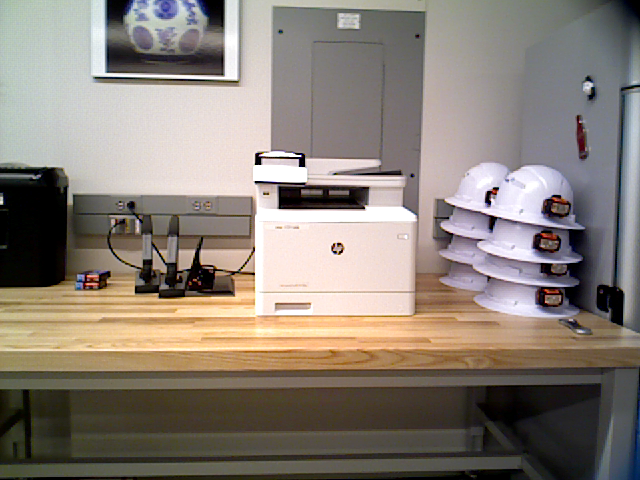painting2: (95, 1, 238, 85)
